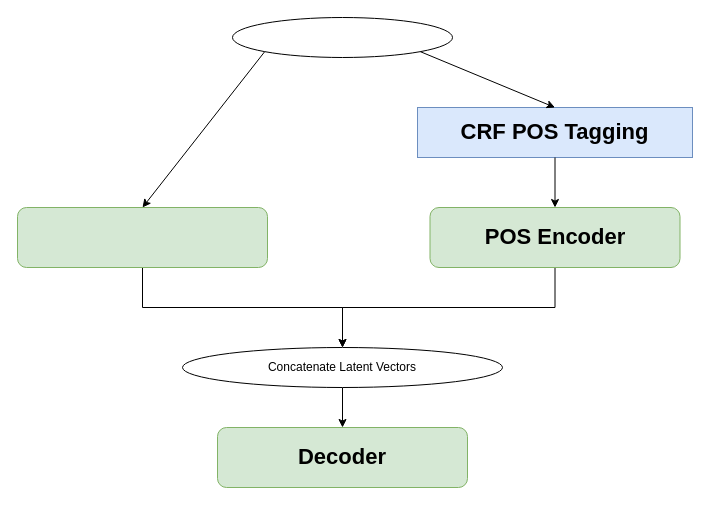
The diagram is 710 pixels wide and 505 high, and some of its shapes have lost their labels. Here are the shapes that lost their labels. From the top down, the box of each, then its label:
(232, 16, 452, 58): Informal Sequence
(16, 206, 268, 268): Sequence Encoder
